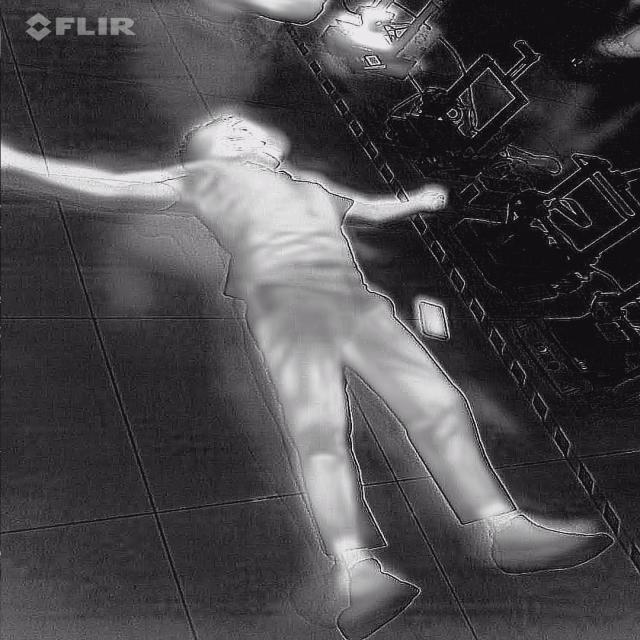Victim: (0, 117, 621, 638)
